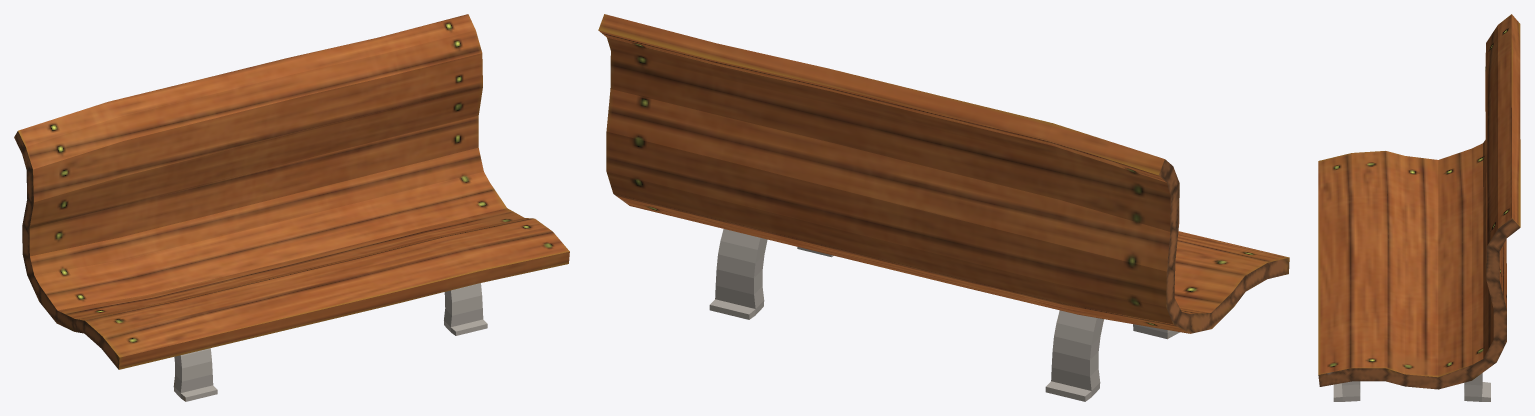
File: PierAssets_PierBench.fbx
3 views of the same model, side by side, from view 1: azimuth 30°, elevation 25°; view 2: azimuth 150°, elevation 25°; view 3: azimuth 270°, elevation 25° (orthographic). The views are drawn at different scales.
Parts seen in each view (by area): view 1: PierBench; view 2: PierBench; view 3: PierBench.
Boxes of the visible parts, x1=… form: PierBench: x1=14, y1=14, x2=569, y2=401; PierBench: x1=598, y1=14, x2=1289, y2=401; PierBench: x1=1318, y1=14, x2=1520, y2=401.
Bounding box in the file's own units: 243 × 118 × 98.48.
1 material, 1 textured.
